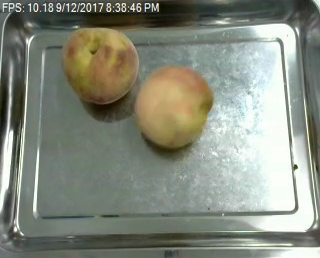Peach: (134, 66, 213, 148), (61, 27, 139, 106)
